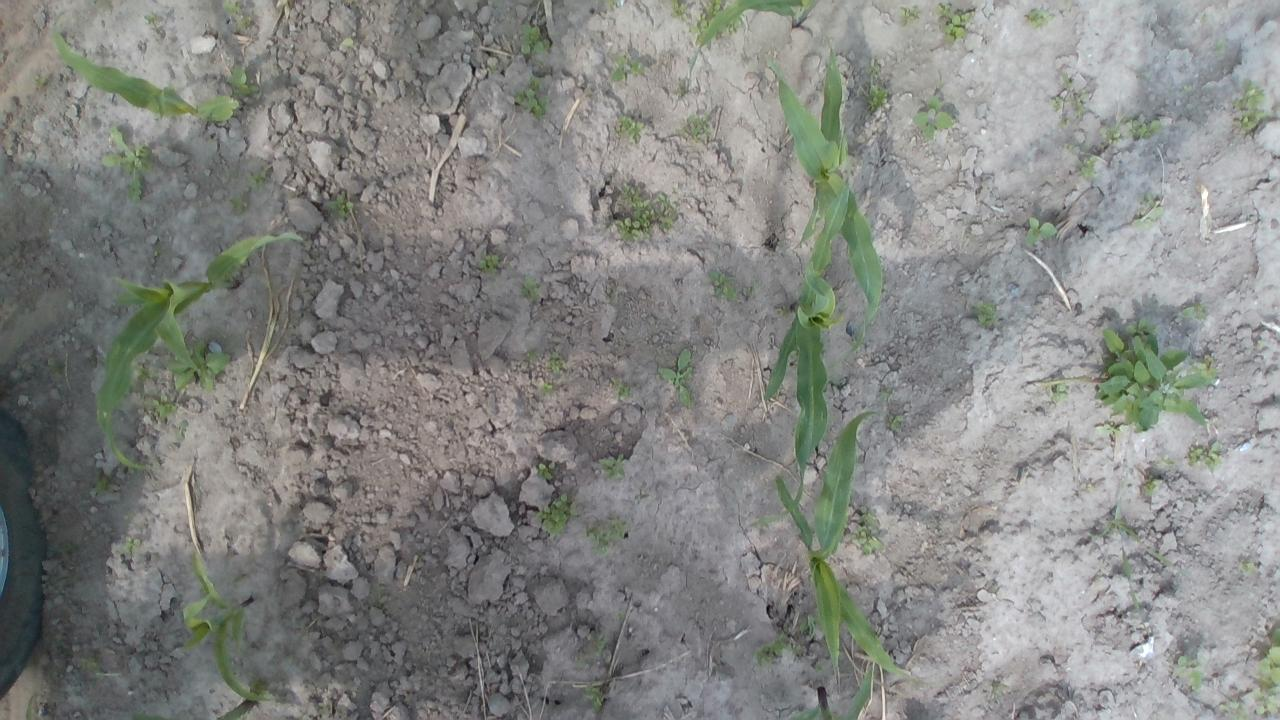Maize: (98, 229, 306, 472), (772, 412, 916, 680), (766, 40, 882, 366), (748, 152, 848, 528), (50, 6, 245, 124), (179, 550, 273, 704), (685, 0, 814, 88), (784, 666, 878, 720), (210, 676, 274, 720), (128, 713, 168, 720)
Weeds: (1094, 318, 1218, 437), (614, 180, 678, 244), (102, 126, 154, 204), (165, 340, 231, 394), (1250, 628, 1280, 718), (1050, 72, 1092, 127), (535, 490, 580, 538), (657, 348, 694, 405), (1232, 81, 1268, 133), (914, 94, 953, 141), (753, 632, 803, 668), (850, 506, 884, 556), (586, 518, 630, 556), (514, 77, 550, 121), (937, 3, 974, 44), (1172, 653, 1210, 692), (1186, 441, 1224, 474), (1132, 192, 1164, 229), (1023, 217, 1058, 248), (611, 52, 646, 83), (222, 0, 255, 32), (228, 65, 259, 99), (520, 22, 550, 57), (678, 116, 712, 146), (141, 394, 176, 422), (1220, 688, 1250, 720), (614, 115, 644, 146), (1041, 373, 1073, 402), (708, 270, 736, 301), (1126, 116, 1162, 140), (971, 300, 1001, 326), (598, 454, 626, 481), (583, 684, 611, 710), (1191, 355, 1219, 379), (326, 193, 354, 217), (868, 85, 891, 112), (1026, 8, 1054, 30), (586, 630, 606, 660), (133, 361, 158, 384), (1178, 300, 1207, 319), (248, 673, 270, 698), (520, 277, 542, 302), (544, 351, 566, 375), (478, 252, 502, 274), (1076, 154, 1098, 178), (245, 170, 270, 190), (896, 6, 918, 28), (228, 193, 248, 215), (122, 535, 144, 555), (610, 378, 630, 399), (719, 18, 740, 38), (94, 476, 114, 496), (1142, 478, 1162, 498), (990, 679, 1010, 698), (690, 14, 709, 34), (669, 0, 687, 21), (172, 421, 190, 442), (801, 614, 818, 636), (538, 462, 556, 482), (1100, 126, 1122, 142), (676, 76, 691, 99), (48, 359, 66, 378), (1237, 559, 1257, 576), (79, 655, 99, 672), (886, 414, 906, 430), (230, 572, 248, 589), (538, 380, 556, 397), (706, 0, 724, 17), (1153, 455, 1176, 468), (146, 242, 163, 258), (32, 70, 46, 89), (867, 58, 881, 76), (143, 12, 160, 26), (1079, 482, 1097, 495), (340, 36, 354, 52), (878, 388, 894, 402), (1214, 40, 1228, 56), (775, 305, 790, 319), (746, 282, 760, 296), (604, 0, 620, 11), (526, 348, 538, 362), (1256, 338, 1268, 351), (574, 658, 588, 668), (813, 662, 824, 674), (224, 168, 236, 178), (1197, 14, 1210, 23), (1056, 0, 1072, 7), (1183, 84, 1194, 94), (1064, 143, 1075, 153), (616, 610, 624, 622), (122, 514, 134, 520)
